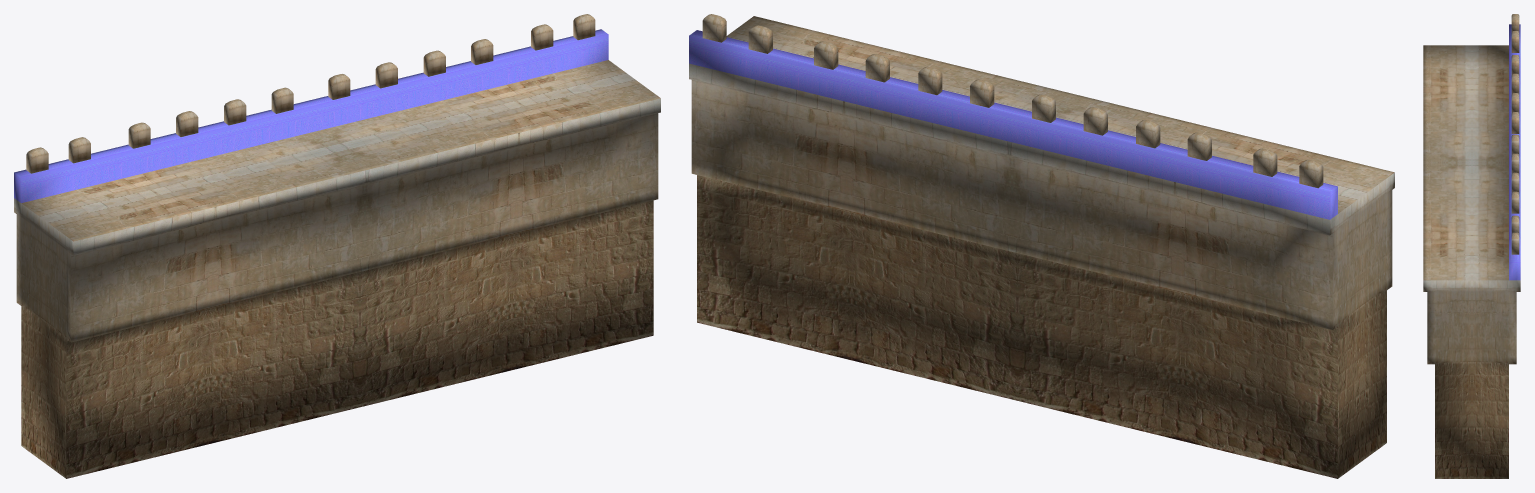
The model's file is wall_small.gltf.
3 renders of one model, left to right at view 1: azimuth 30°, elevation 25°; view 2: azimuth 150°, elevation 25°; view 3: azimuth 270°, elevation 25°, orthographic. The views are drawn at different scales.
Visible parts, largest first — view 1: wall_small; view 2: wall_small; view 3: wall_small.
Boxes of the visible parts, left/top/right/bottom form: wall_small: left=14, top=14, right=660, bottom=478; wall_small: left=689, top=14, right=1394, bottom=478; wall_small: left=1423, top=14, right=1520, bottom=478.
Size of the model in its own units: 5.55 by 2.61 by 0.9738.
2 materials, 2 textured.
